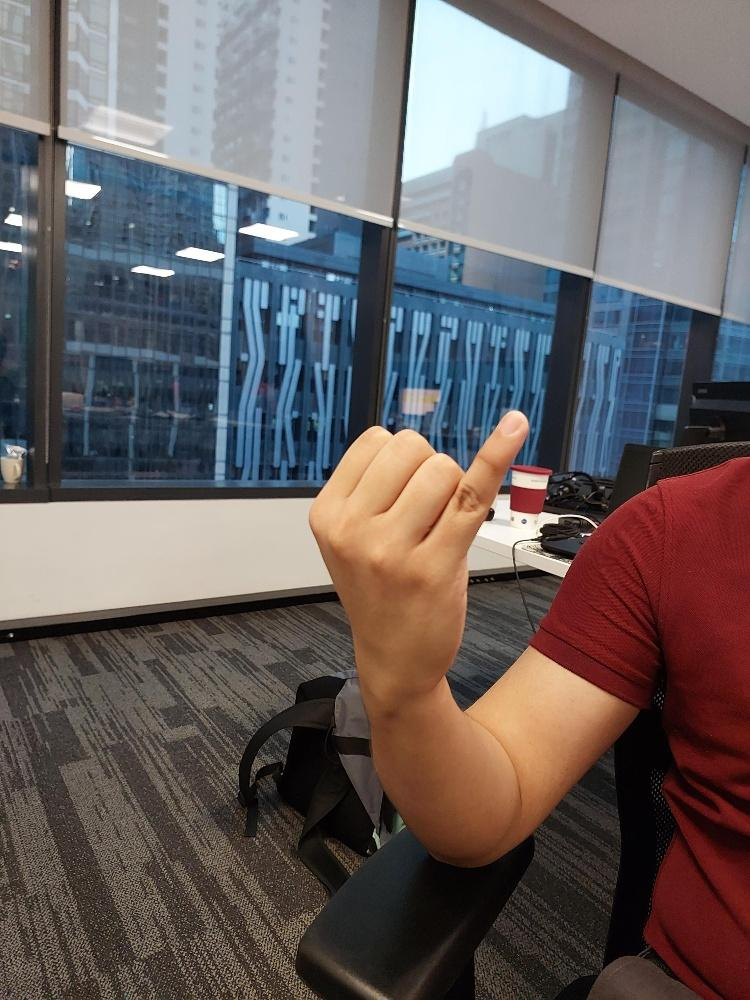j: (305, 405, 530, 701)
